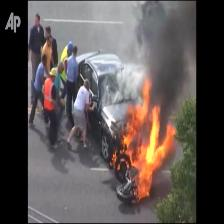fire: (119, 79, 175, 200)
